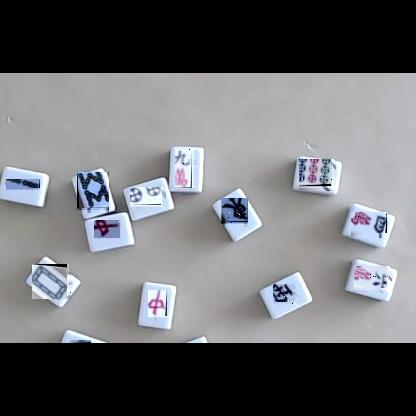1z: (221, 199, 248, 227)
2p: (131, 188, 166, 210)
2s: (6, 180, 40, 193)
3z: (274, 285, 299, 307), (70, 340, 91, 343)
4m: (351, 213, 387, 238)
5z: (33, 264, 72, 299)
6m: (355, 267, 392, 293)
7z: (95, 221, 124, 242), (148, 291, 167, 321)
8s: (77, 173, 109, 213)
9m: (176, 149, 197, 188)
9p: (300, 160, 336, 191)
